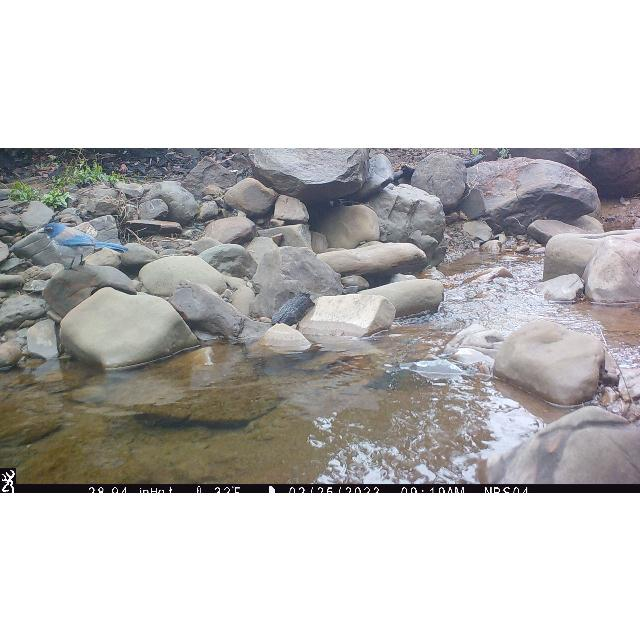animals: (40, 220, 130, 270)
